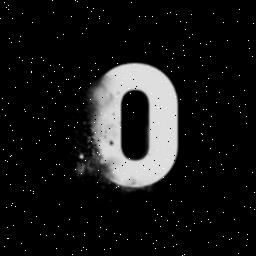o: (82, 58, 182, 196)
